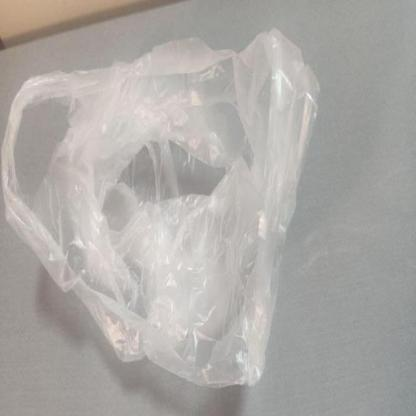Plastic Bag: (2, 24, 324, 387)
